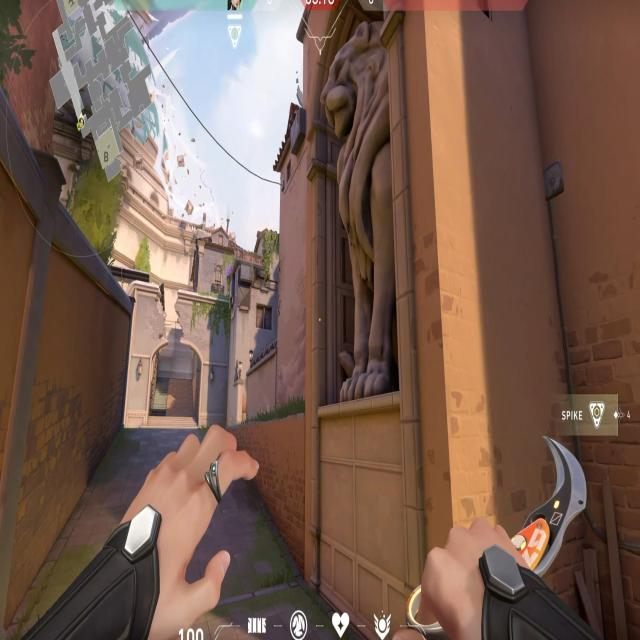Lion_Corner: (310, 0, 410, 414)
